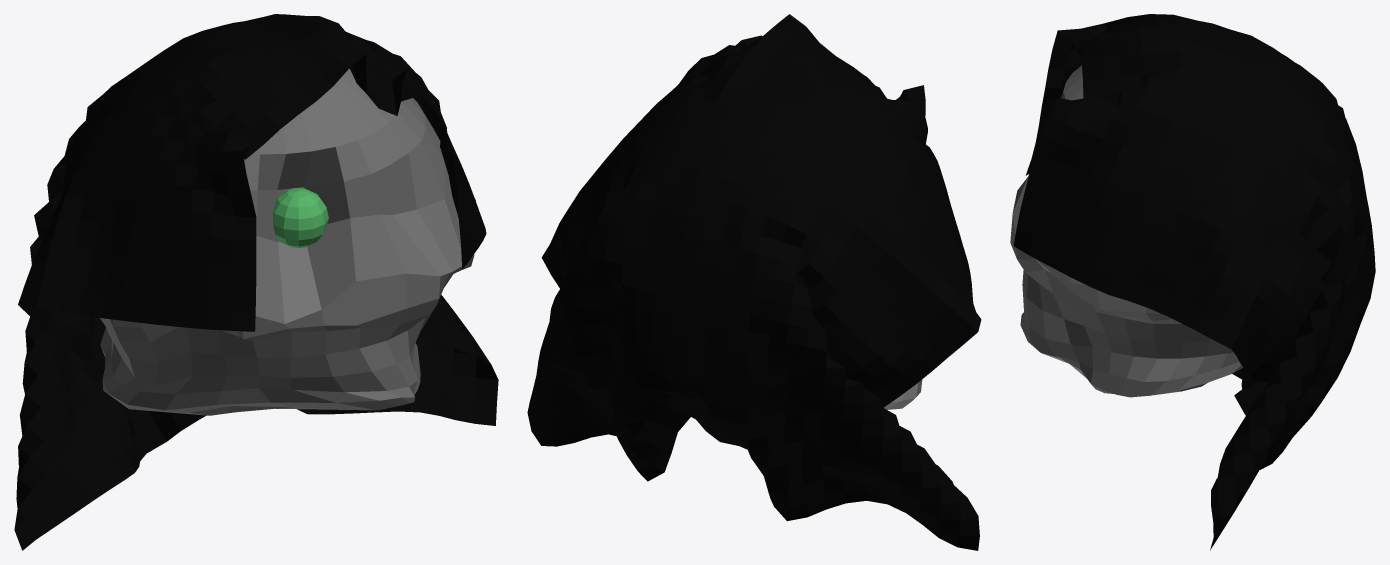
File: cultist_evil_slime.fbx
The picture shows the model from 3 angles, left to right: view 1: azimuth 30°, elevation 25°; view 2: azimuth 150°, elevation 25°; view 3: azimuth 270°, elevation 25°; orthographic projection. The views are drawn at different scales.
Parts seen in each view (by area): view 1: Plane, Sphere, Sphere.001; view 2: Plane; view 3: Plane, Sphere.
Boxes of the visible parts, x1=… form: Plane: x1=14, y1=14, x2=498, y2=550; Sphere: x1=100, y1=68, x2=474, y2=415; Sphere.001: x1=273, y1=187, x2=328, y2=248; Plane: x1=527, y1=14, x2=981, y2=550; Plane: x1=1013, y1=14, x2=1375, y2=550; Sphere: x1=1010, y1=65, x2=1243, y2=397.
Size of the model in its own units: 301 by 282 by 218.
